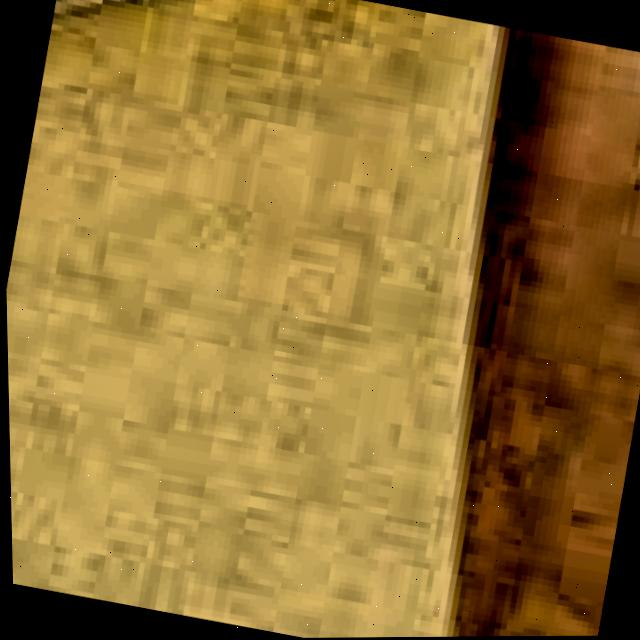paper: (5, 0, 640, 638)
